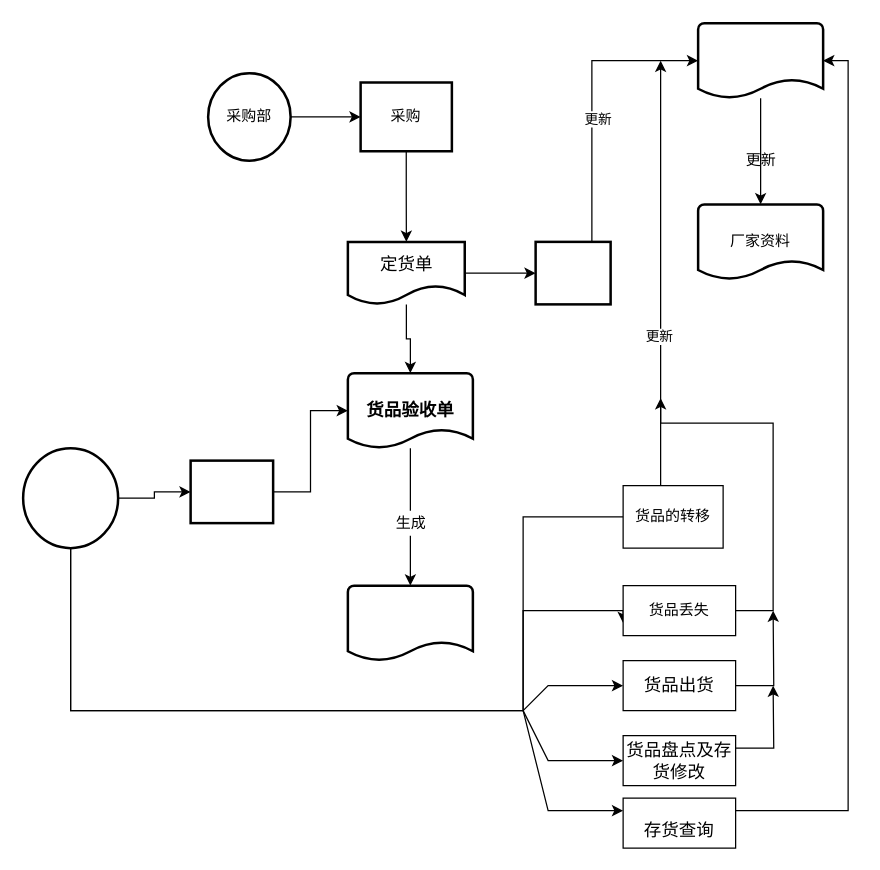
This 880x870 diagram has some shape labels left out. The box of each missing label's shape, as (x1, y1, x2, y2) in pixels:
库管科: (21, 446, 119, 549)
收货: (189, 459, 274, 524)
收货报表: (346, 584, 474, 661)
记录: (534, 240, 611, 305)
货品资料: (696, 21, 824, 99)
